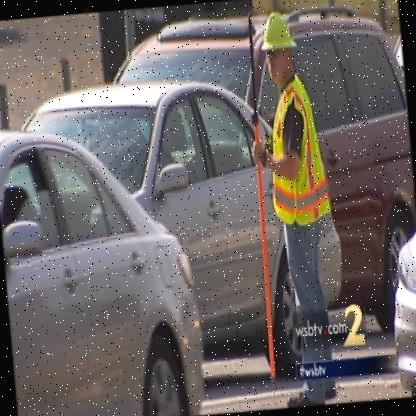capacete: (256, 6, 302, 85)
colete_refletivo: (260, 71, 336, 231)
